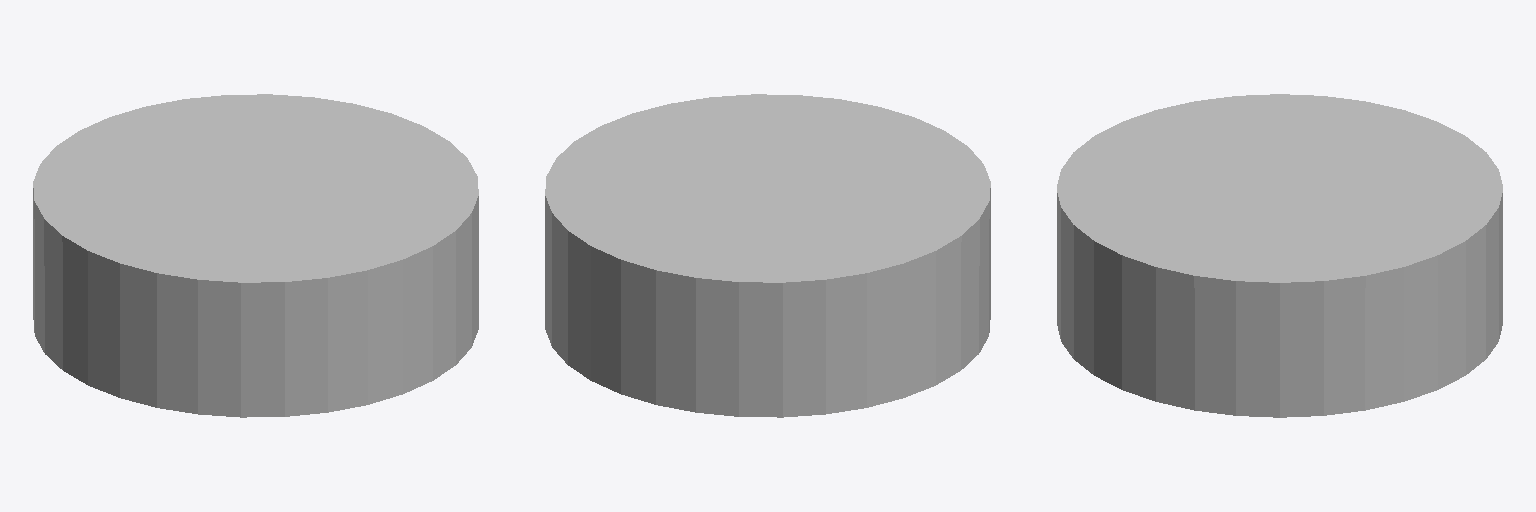
Rendered from bowl.obj.
The picture shows the model from 3 angles: view 1: azimuth 30°, elevation 25°; view 2: azimuth 150°, elevation 25°; view 3: azimuth 270°, elevation 25°; orthographic projection.
Visible parts, largest first — view 1: 柱体; view 2: 柱体; view 3: 柱体.
Boxes of the visible parts, x1,y1,x2,y2 form: 柱体: [33, 94, 478, 417]; 柱体: [545, 94, 990, 417]; 柱体: [1057, 94, 1502, 417].
Size of the model in its own units: 6 by 2 by 6.